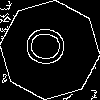O: (25, 25, 75, 69)
